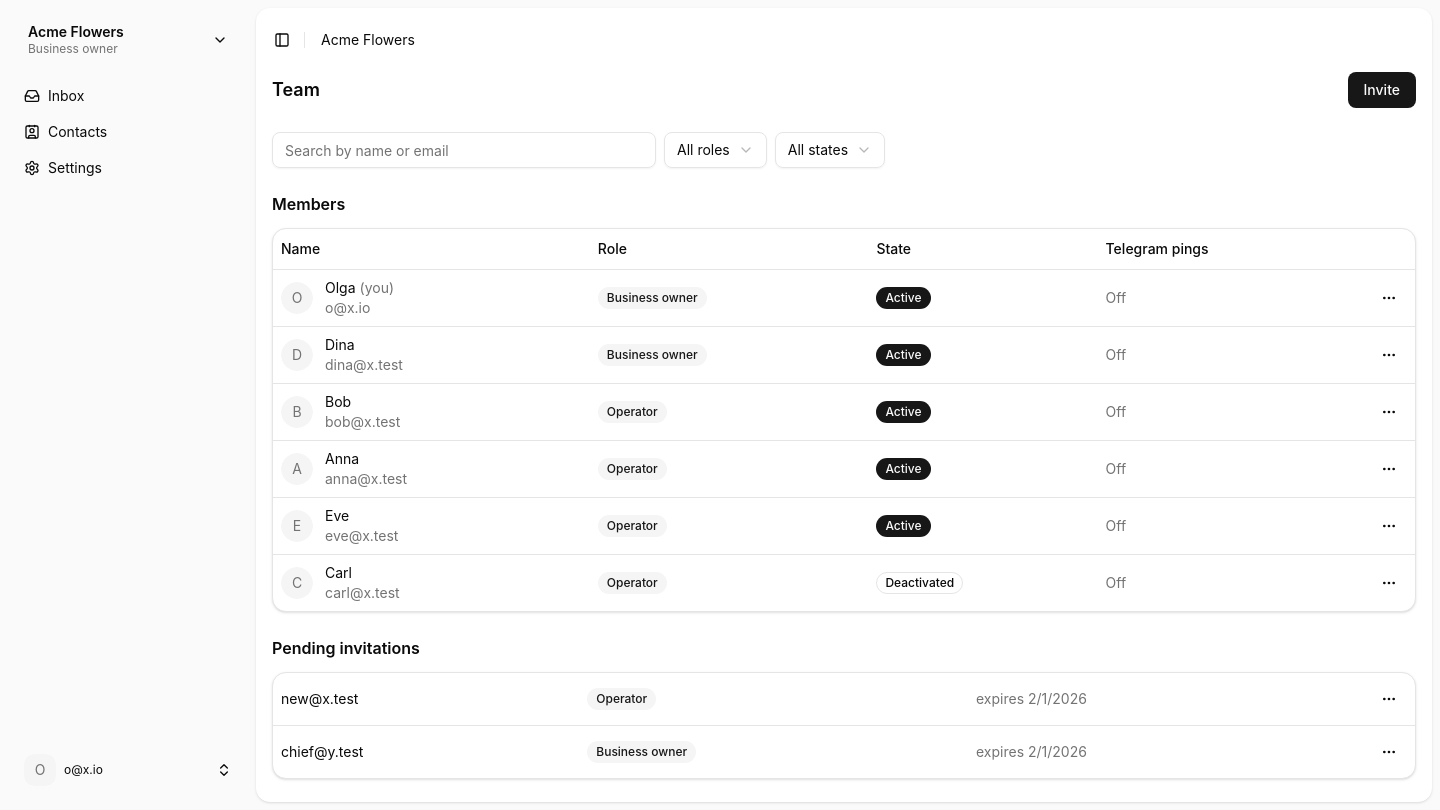
Scenario: Team filters (SCR-12, AC-08) › the state filter leaves pending invitations untouched
The image size is (1440, 810).
expect the text "Bob" is shown: met, box [325,392,351,410]
Press Enter in the dropdown labelled "All states", box [775,132,885,168]
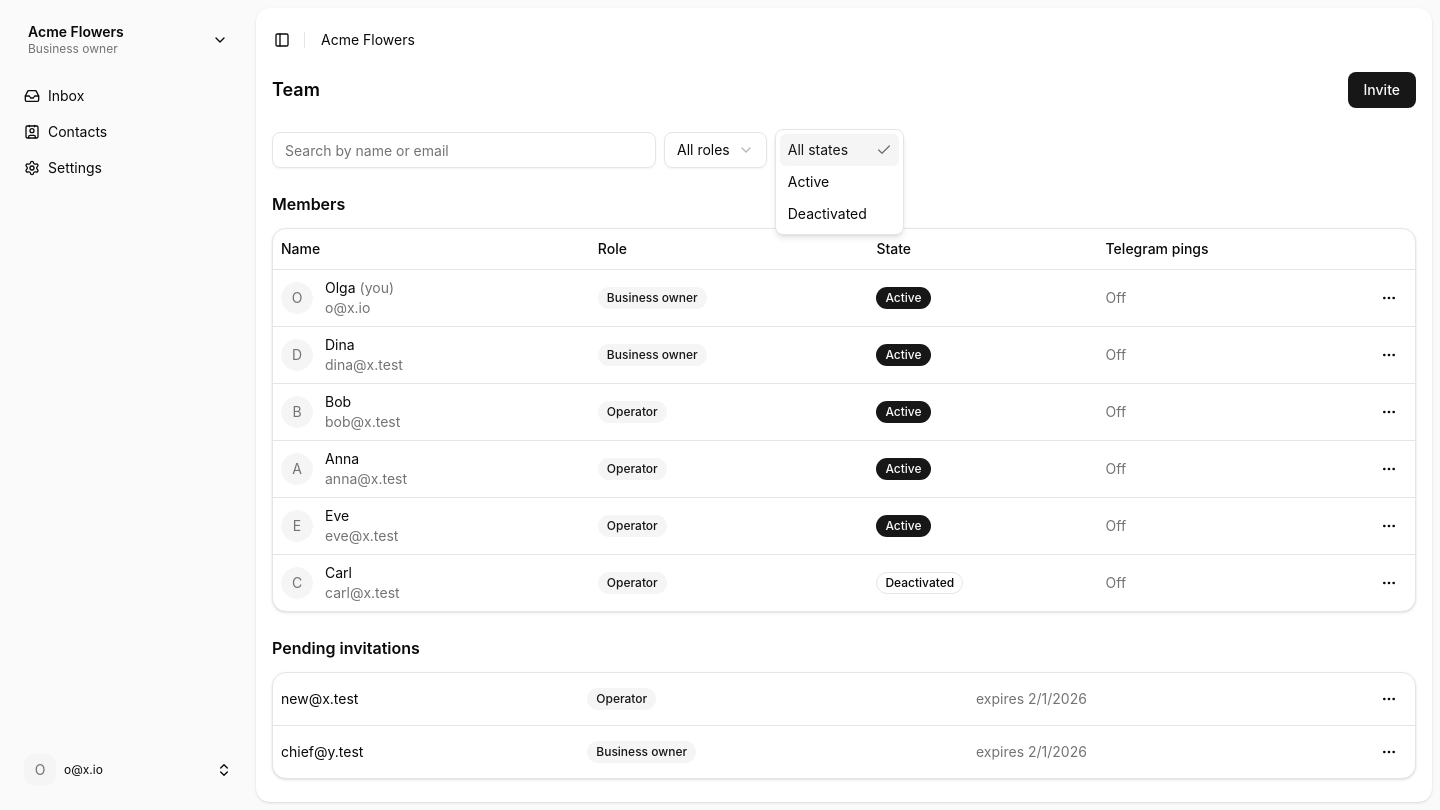
Click the option "Deactivated".
click(827, 214)  # box [788,205,867,222]
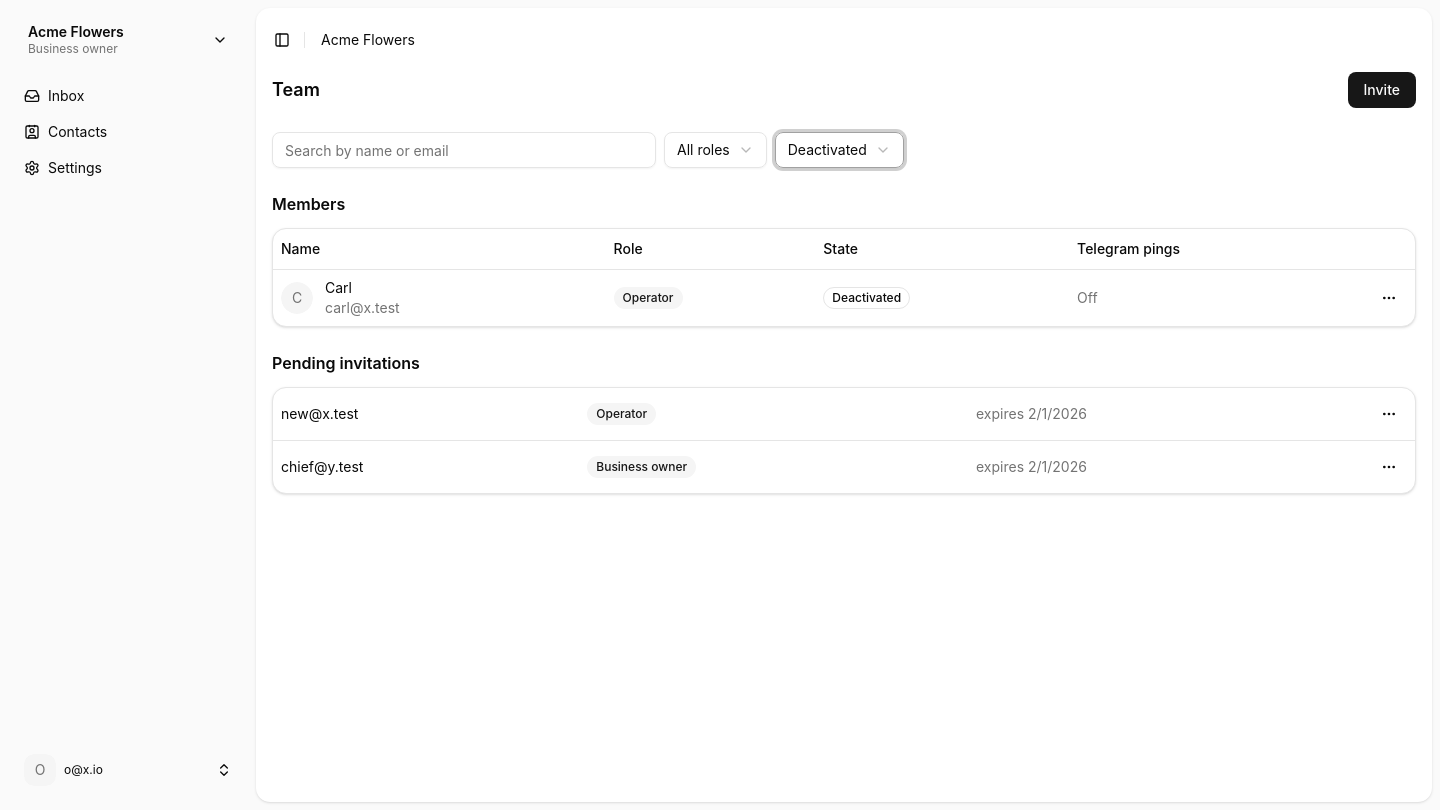
expect the text "Carl" is shown: met, box [325,278,352,296]
expect the text "Bob" is gone: met
